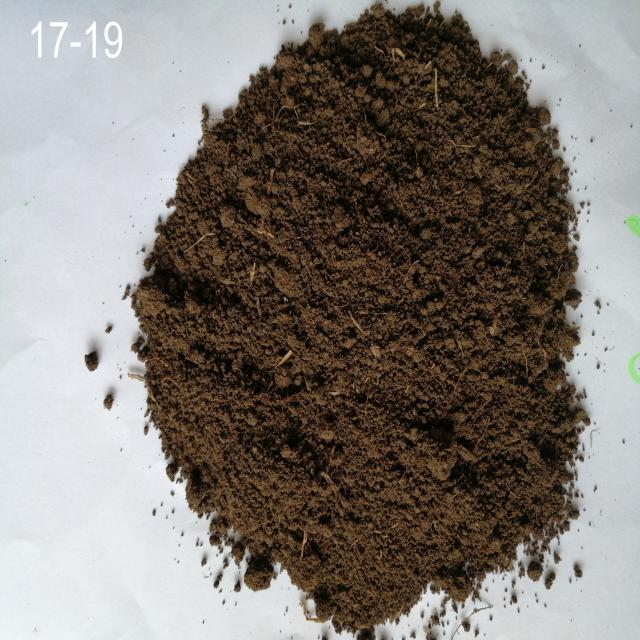soil: (215, 127, 543, 516)
